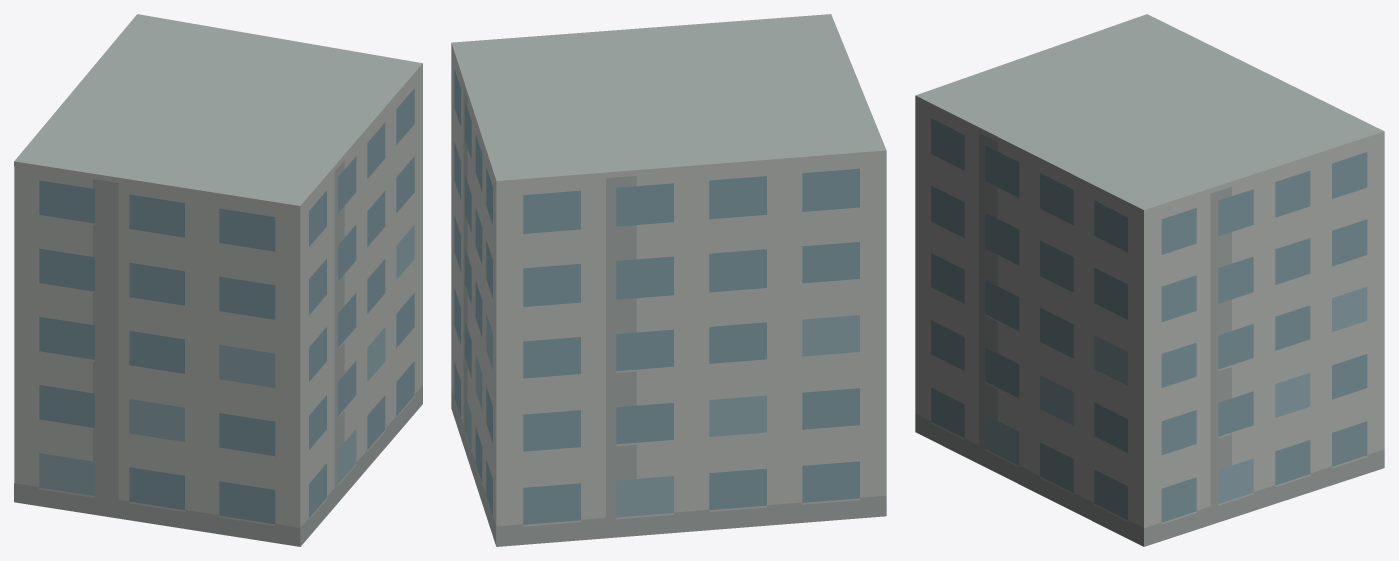
Rendered from survey-upis-32865486.glb.
The picture shows the model from 3 angles, left to right: view 1: azimuth 30°, elevation 25°; view 2: azimuth 150°, elevation 25°; view 3: azimuth 270°, elevation 25°; orthographic projection. The views are drawn at different scales.
Parts seen in each view (by area): view 1: survey-upis-32865486.tmp; view 2: survey-upis-32865486.tmp; view 3: survey-upis-32865486.tmp.
Boxes of the visible parts, bbox=[...] form: survey-upis-32865486.tmp: bbox=[14, 14, 422, 546]; survey-upis-32865486.tmp: bbox=[451, 14, 886, 546]; survey-upis-32865486.tmp: bbox=[915, 14, 1384, 546].
Size of the model in its own units: 19.38 by 15.5 by 19.58.
